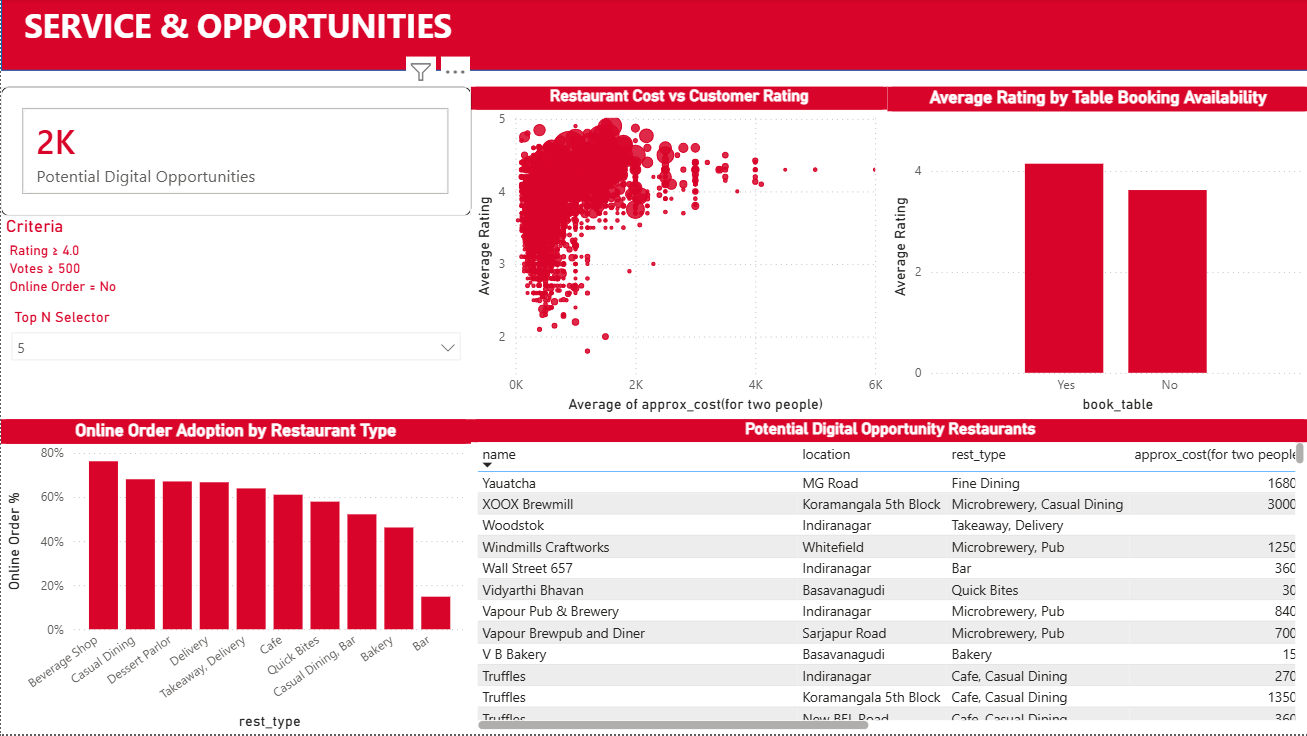

Layout of this report page (visuals, bound fields, positions):
{"tool":"powerbi","page":{"name":"Service & Opportunities","canvas":[1280,720],"ordinal":5},"visuals":[{"type":"clusteredColumnChart","title":"Online Order Adoption by Restaurant Type","fields":{"Category":["zomato_cleaned_final.rest_type"],"Y":["zomato_cleaned_final.Online Order %"]},"box":[0,412.2,459.7,308.4],"z":0},{"type":"shape","box":[0,0,1279.7,71.2],"z":1000},{"type":"clusteredColumnChart","title":"Average Rating by Table Booking Availability","fields":{"Category":["zomato_cleaned_final.book_table"],"Y":["zomato_cleaned_final.Average Rating"]},"box":[867.2,86.4,413,323.8],"z":2000},{"type":"scatterChart","title":"Restaurant Cost vs Customer Rating","fields":{"X":["Avg(zomato_cleaned_final.approx_cost(for two people))"],"Y":["zomato_cleaned_final.Average Rating"],"Category":["zomato_cleaned_final.name"],"Size":["Sum(zomato_cleaned_final.votes)"]},"box":[459.7,86.4,407.5,323.8],"z":3000},{"type":"tableEx","title":"Potential Digital Opportunity Restaurants","fields":{"Values":["zomato_cleaned_final.name","zomato_cleaned_final.location","zomato_cleaned_final.rest_type","Sum(zomato_cleaned_final.approx_cost(for two people))","zomato_cleaned_final.online_order","zomato_cleaned_final.book_table","zomato_cleaned_final.Restaurant Engagement Rank","zomato_cleaned_final.Restaurant Performance Segment","zomato_cleaned_final.Restaurant Votes","zomato_cleaned_final.Restaurant Rating","zomato_cleaned_final.Show Top N"]},"box":[459.7,411.7,820.6,308.7],"z":4000},{"type":"textbox","box":[0,0,1279.7,71.2],"z":8000},{"type":"cardVisual","fields":{"Data":["zomato_cleaned_final.Potential Digital Opportunities"]},"box":[0,86.4,459.7,126.2],"z":9000},{"type":"textbox","title":"Criteria ","box":[0,212.7,459.7,85.1],"z":10000},{"type":"slicer","fields":{"Values":["Top N Selector.Top N Selector"]},"box":[0,297.8,459.7,112.5],"z":10001}]}

Visuals, with their boxes in screenshot pixels (x1, y1, x2, y2), scaled from the page's 1280x720 canvas onto the 1307x736 screenshot:
"Online Order Adoption by Restaurant Type" clusteredColumnChart: [left=0, top=421, right=469, bottom=735]
shape: [left=0, top=0, right=1306, bottom=73]
"Average Rating by Table Booking Availability" clusteredColumnChart: [left=885, top=88, right=1306, bottom=419]
"Restaurant Cost vs Customer Rating" scatterChart: [left=469, top=88, right=885, bottom=419]
"Potential Digital Opportunity Restaurants" tableEx: [left=469, top=421, right=1306, bottom=735]
textbox: [left=0, top=0, right=1306, bottom=73]
cardVisual - zomato_cleaned_final.Potential Digital Opportunities: [left=0, top=88, right=469, bottom=217]
"Criteria " textbox: [left=0, top=217, right=469, bottom=304]
slicer - Top N Selector.Top N Selector: [left=0, top=304, right=469, bottom=419]
